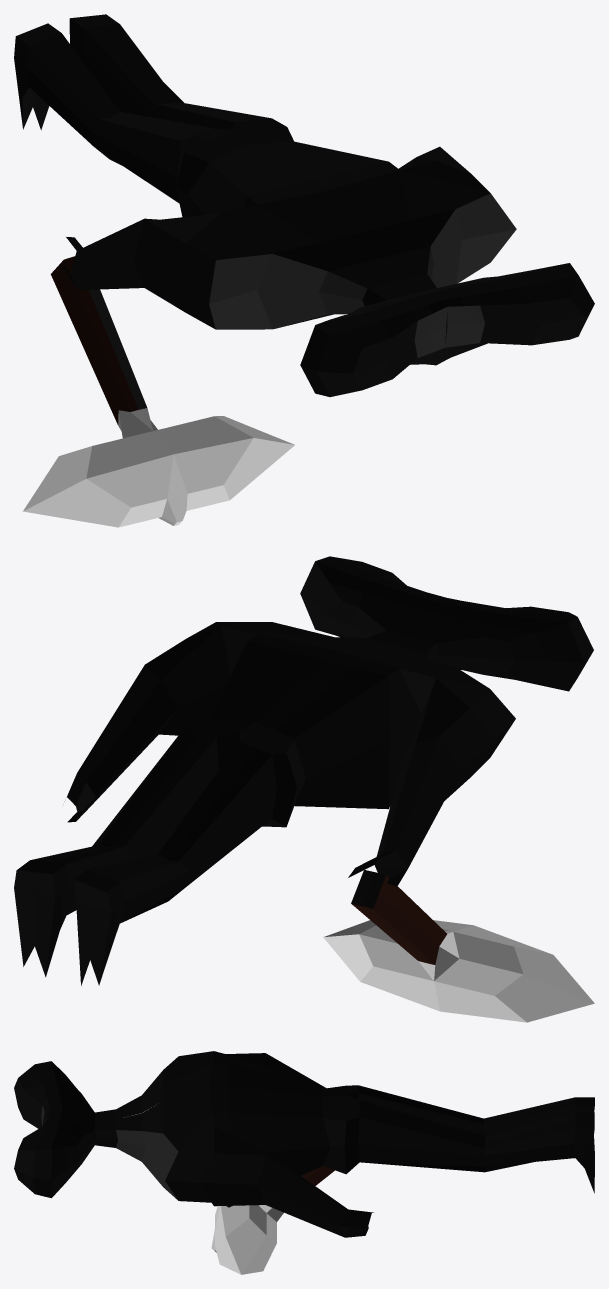
The model's file is Giant.obj.
3 views of the same model, one above another, from view 1: azimuth 30°, elevation 25°; view 2: azimuth 150°, elevation 25°; view 3: azimuth 270°, elevation 25° (orthographic). The views are drawn at different scales.
Visible parts, largest first — view 1: Cube; view 2: Cube; view 3: Cube.
Part boxes in pixels (<box>): Cube: <box>14,14,594,527</box>; Cube: <box>14,556,594,1022</box>; Cube: <box>14,1051,594,1274</box>.
Size of the model in its own units: 1.05 by 0.667 by 1.62.
